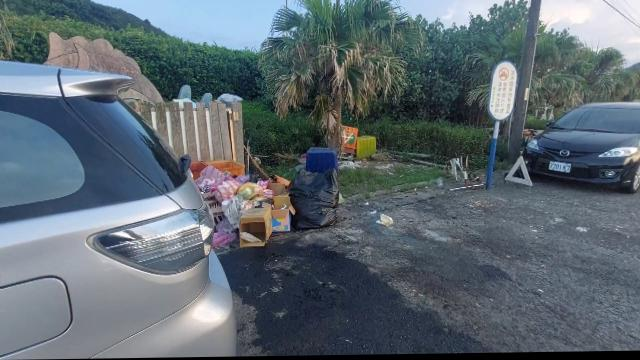pollute: (189, 147, 341, 249), (341, 124, 377, 162), (449, 159, 485, 193), (375, 216, 394, 226)
